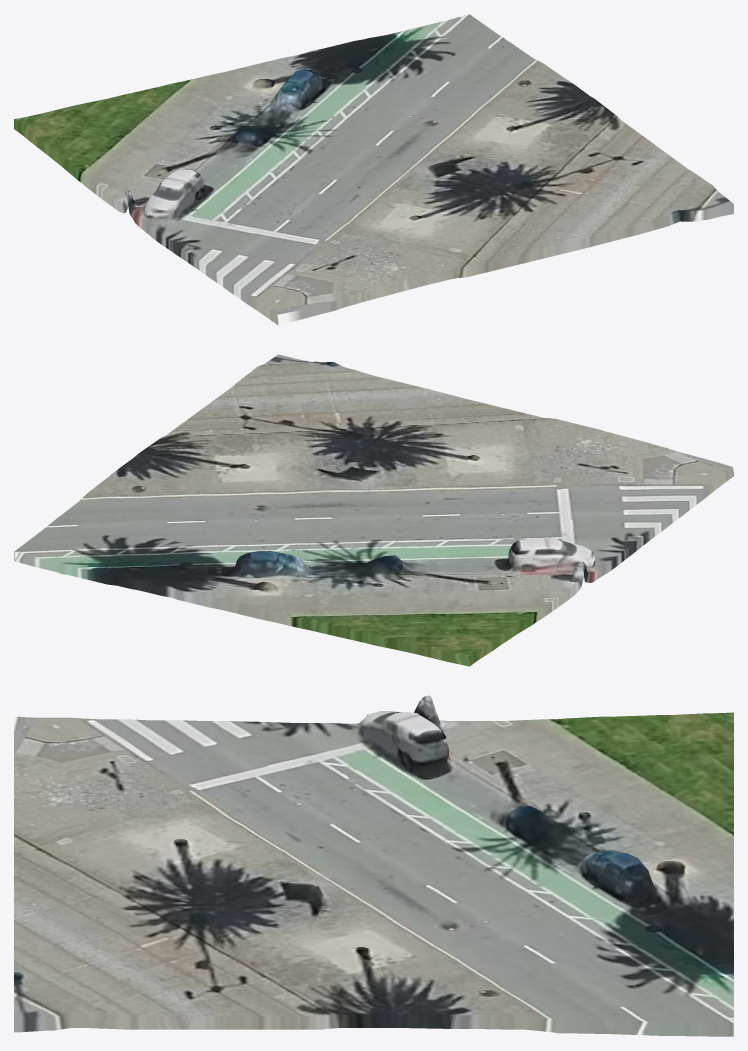
The model's file is z20-167786-405218-h0-yup-uvflip-v3-world.glb.
The picture shows the model from 3 angles, top to bottom: view 1: azimuth 30°, elevation 25°; view 2: azimuth 150°, elevation 25°; view 3: azimuth 270°, elevation 25°; orthographic projection. The views are drawn at different scales.
Bounding box in the file's own units: 30.16 × 2.2 × 30.32.
Materials: 1 (1 with a texture image).
